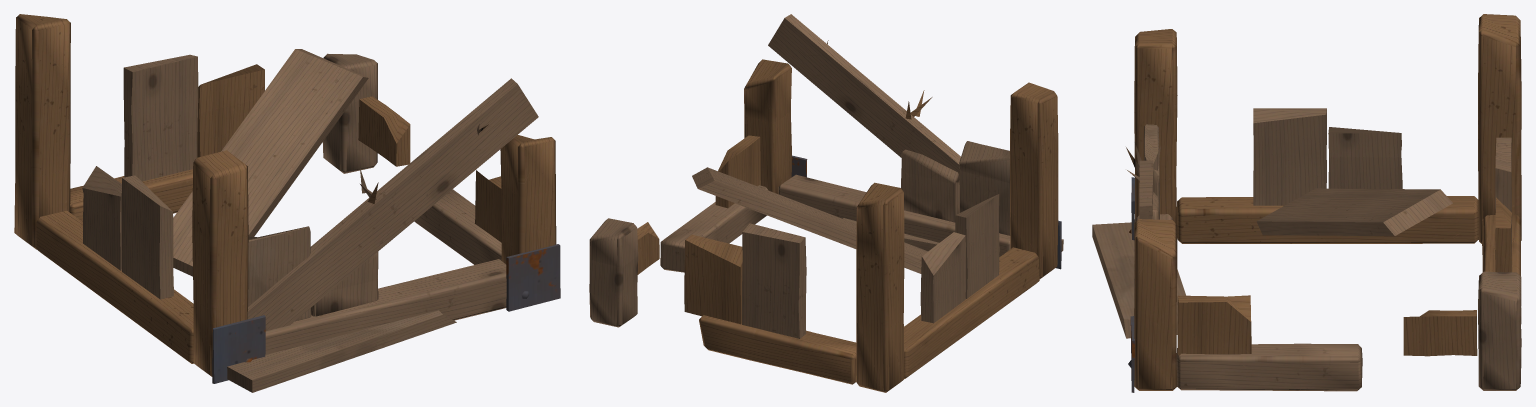
File: Broken_Crate_A.glb
3 renders of one model, left to right at view 1: azimuth 30°, elevation 25°; view 2: azimuth 150°, elevation 25°; view 3: azimuth 270°, elevation 25°, orthographic. The views are drawn at different scales.
Visible parts, largest first — view 1: Broken_Crate_A; view 2: Broken_Crate_A; view 3: Broken_Crate_A.
Part boxes in pixels (x1,y1,x2,y2): Broken_Crate_A: [14, 14, 560, 392]; Broken_Crate_A: [589, 14, 1063, 392]; Broken_Crate_A: [1092, 14, 1521, 392].
Bounding box in the file's own units: 1 × 0.6222 × 1.11.
2 materials, 2 textured.
